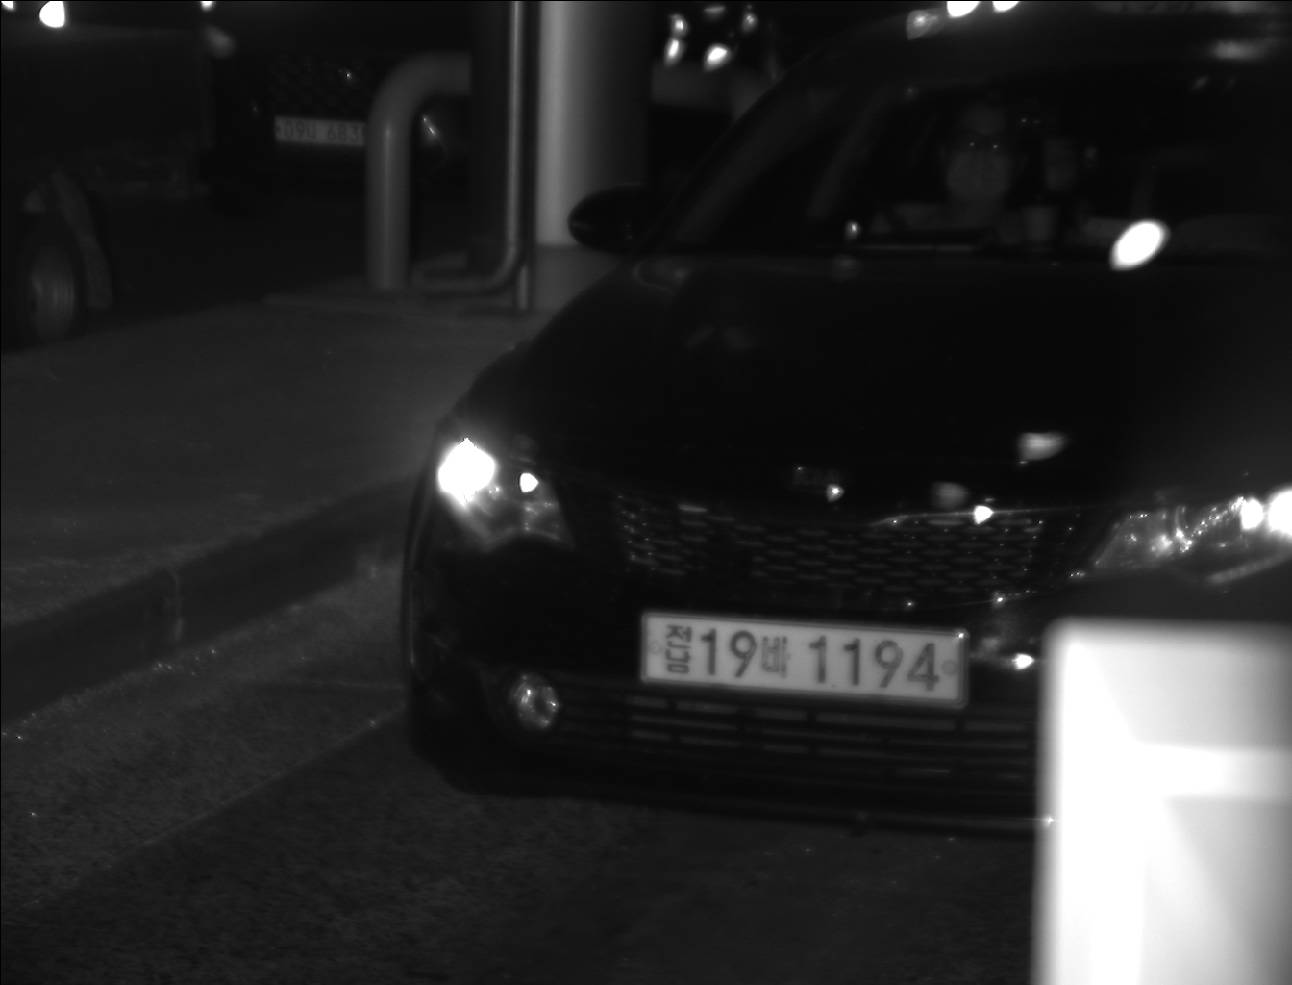car: (395, 2, 1292, 841)
plate: (637, 606, 967, 710), (268, 112, 377, 149)
